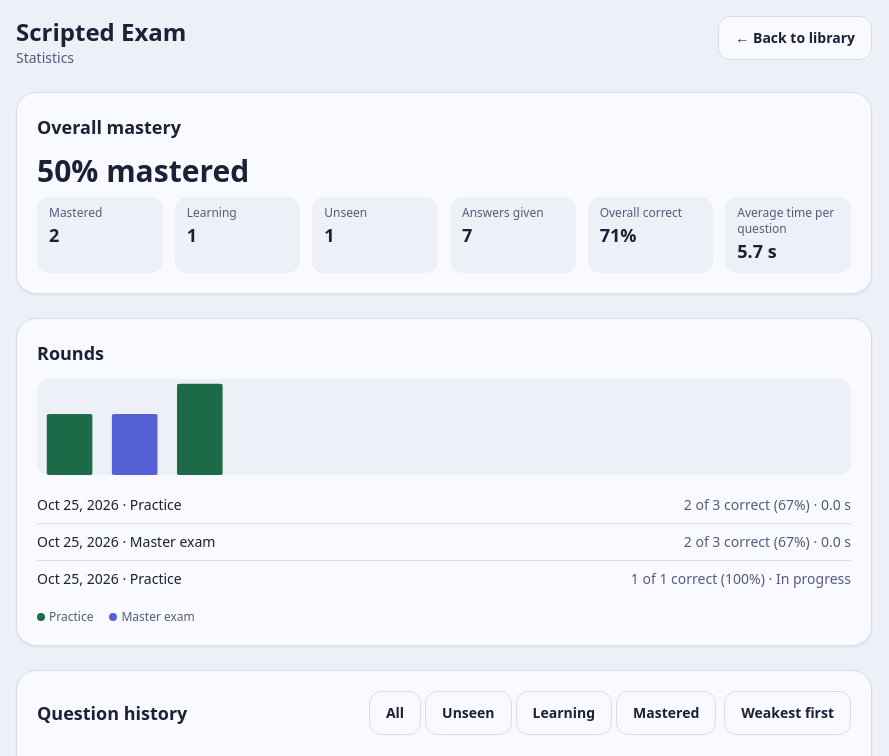
Test: StatsScreen › filters by status and explains an empty filter
Expected: the heading "Scripted Exam" is shown, [16, 16, 186, 48]
Click the button "Learning" at point(564, 713), box [516, 691, 612, 735]
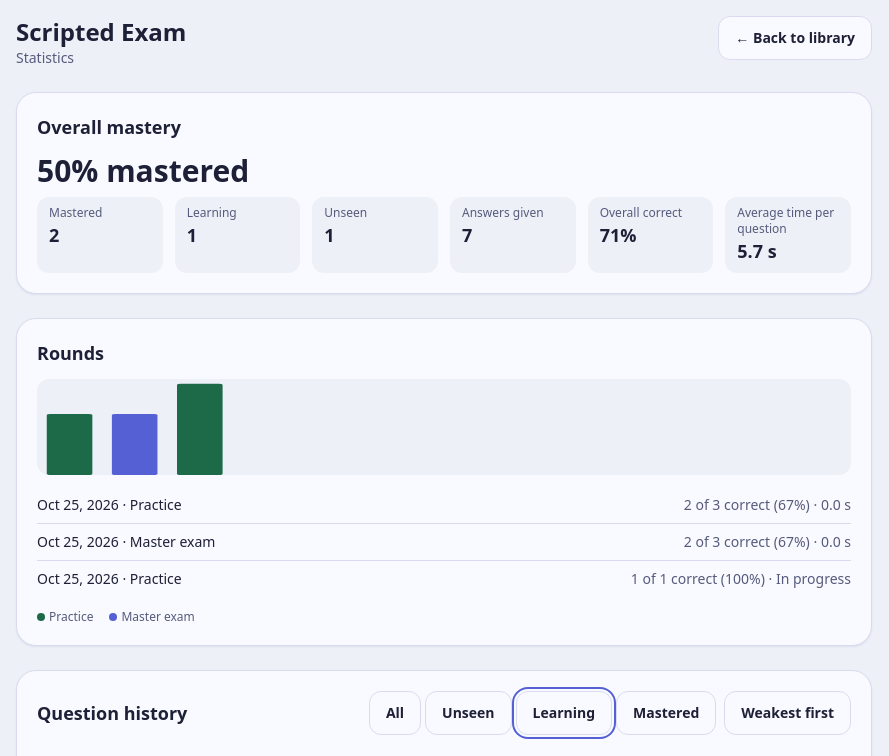
Expected: the number of rows is 2
Click the button "Unseen" at point(468, 713), box [425, 691, 512, 735]
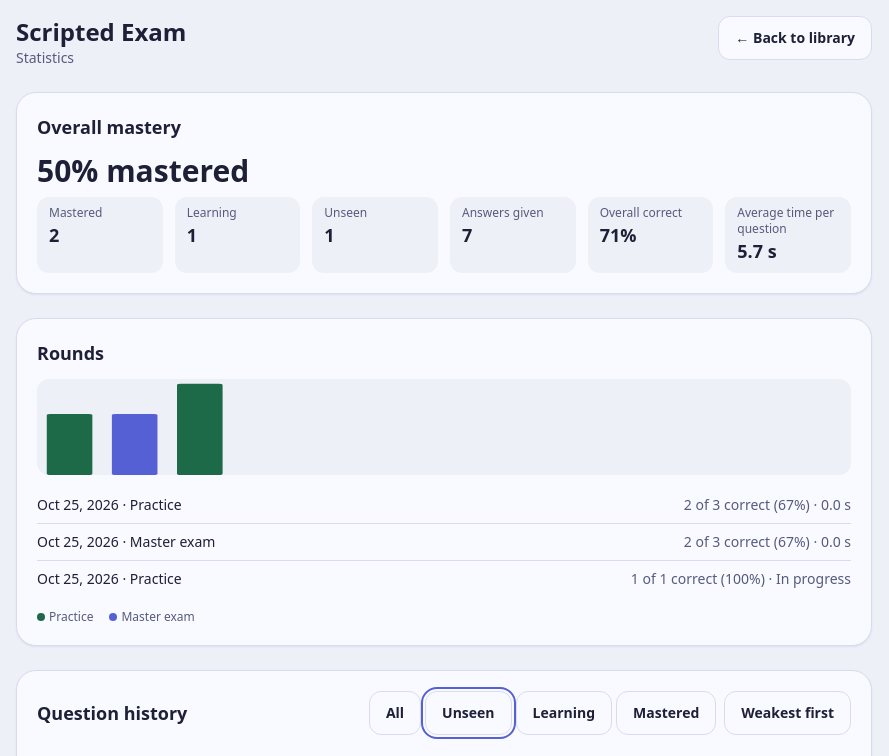
Click the button "All" at point(395, 713), box [369, 691, 421, 735]
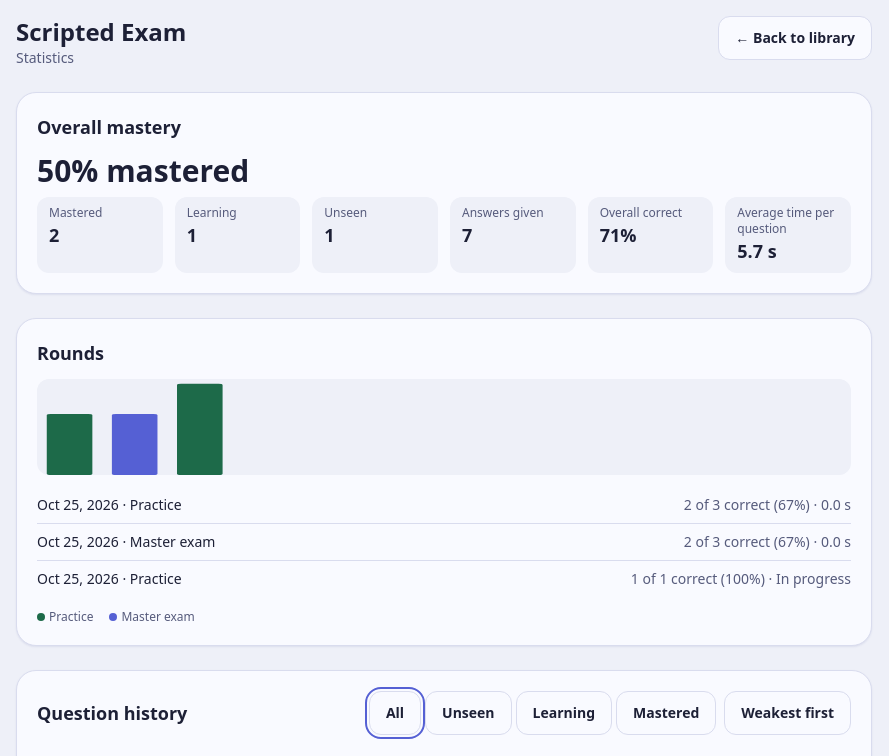
Expected: the number of rows is 5
